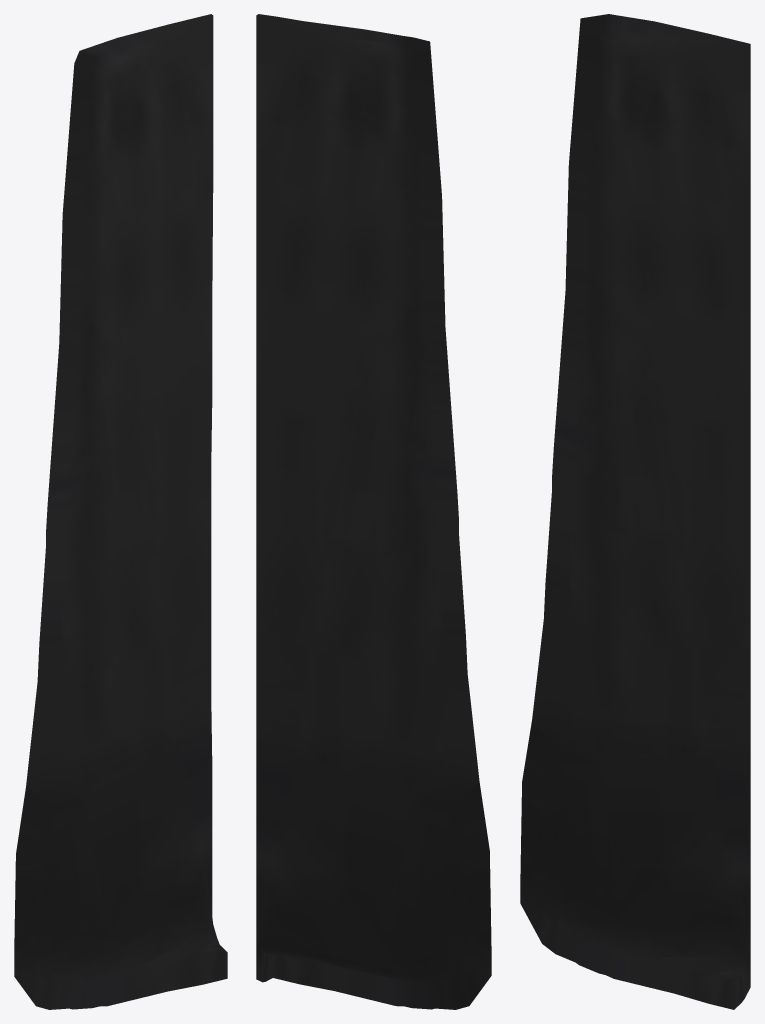
The model's file is z20-167775-405233-h0-yup-uvflip-v3-world.glb.
The picture shows the model from 3 angles, left to right: view 1: azimuth 30°, elevation 25°; view 2: azimuth 150°, elevation 25°; view 3: azimuth 330°, elevation 25°; orthographic projection. The views are drawn at different scales.
Size of the model in its own units: 5.12 by 21.84 by 0.68.
1 material, 1 textured.
